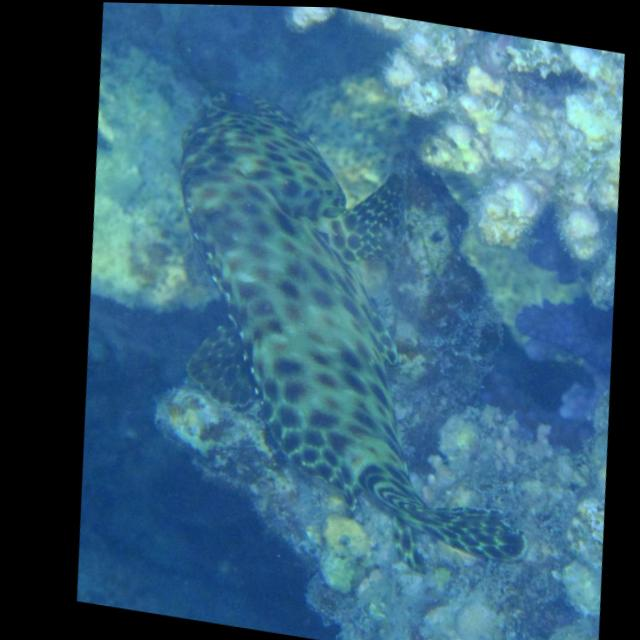Groupers: (115, 80, 578, 587)
